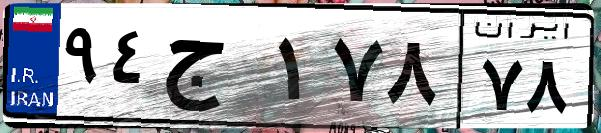1: (270, 28, 330, 110)
4: (110, 28, 158, 98)
7: (330, 28, 385, 110), (475, 38, 525, 113)
8: (385, 28, 445, 110), (525, 38, 570, 115)
9: (57, 26, 110, 100)
ج: (158, 20, 270, 120)
